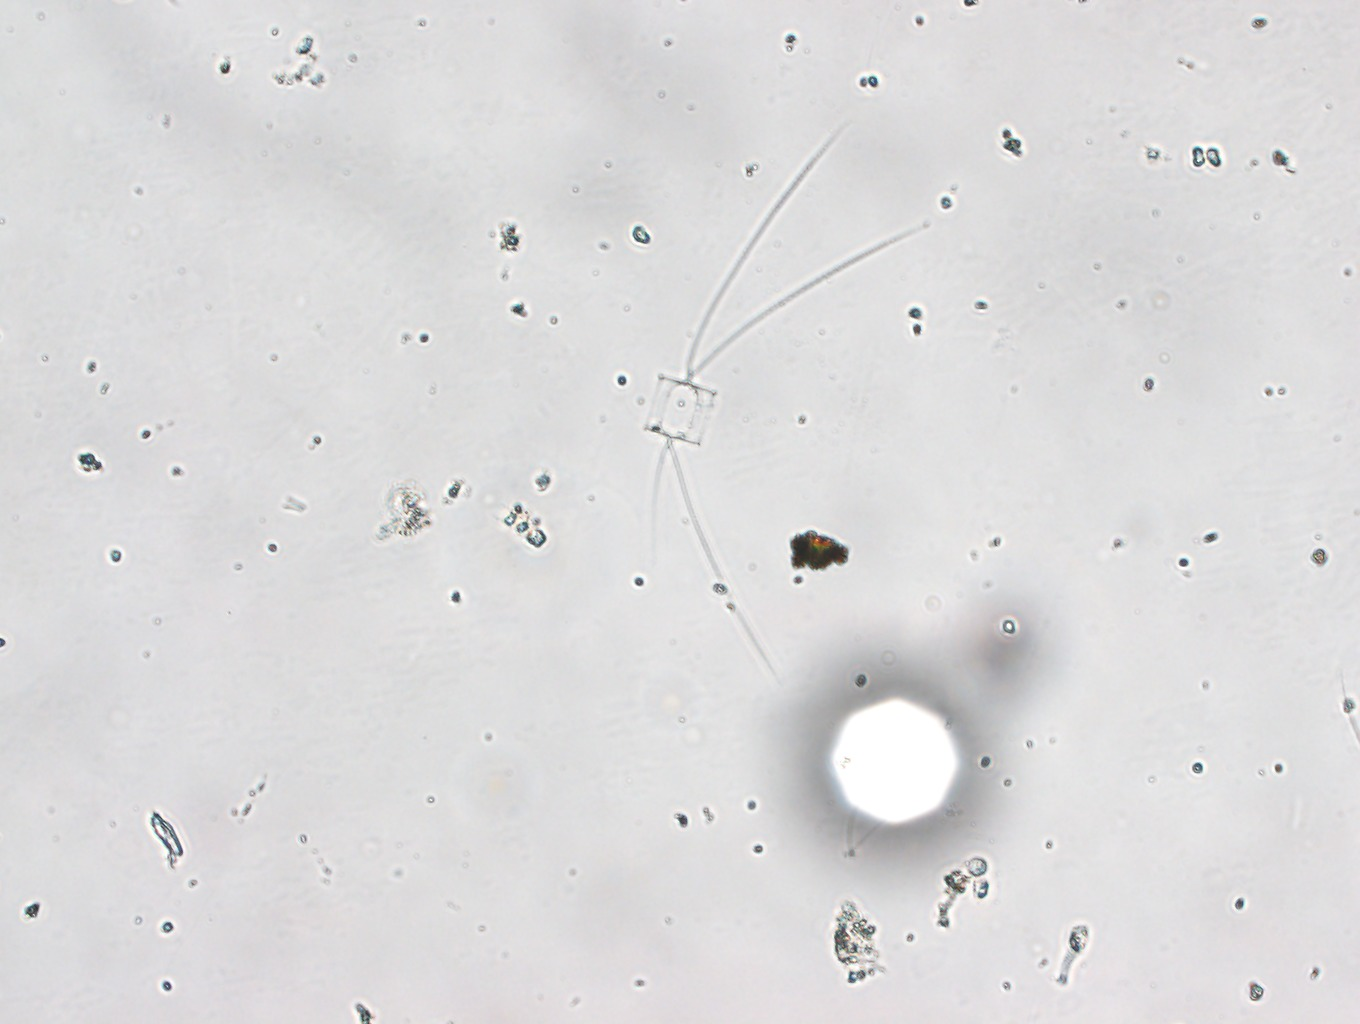chaetoceros: (635, 133, 931, 683)
